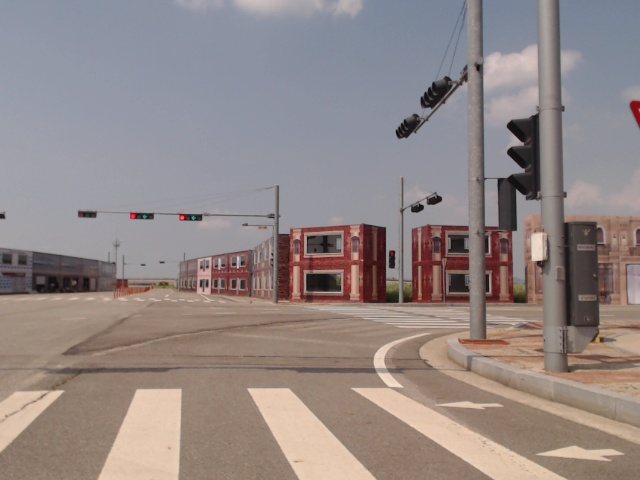left_green_4: (130, 213, 154, 219), (180, 215, 202, 221)
